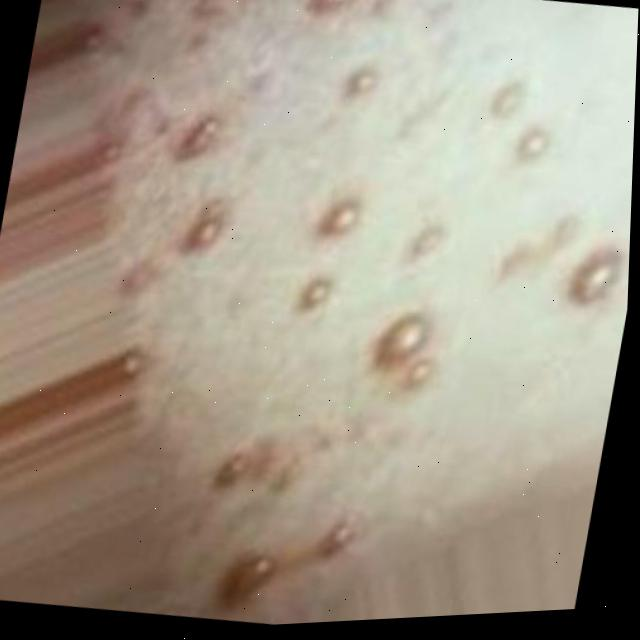Shingles: (215, 547, 280, 616), (372, 308, 436, 376), (565, 242, 625, 311), (182, 197, 233, 259), (316, 193, 365, 243), (176, 112, 224, 163), (405, 219, 448, 266), (495, 241, 537, 286), (296, 273, 337, 316), (318, 516, 358, 560), (513, 123, 554, 165), (212, 450, 253, 492), (488, 78, 528, 120), (344, 62, 384, 103), (403, 354, 441, 394), (186, 0, 234, 25), (299, 0, 356, 17), (118, 346, 147, 379)
